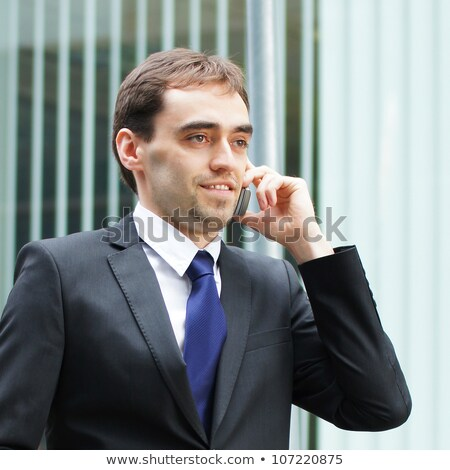phone: (230, 162, 269, 227)
talk: (162, 102, 317, 236)
